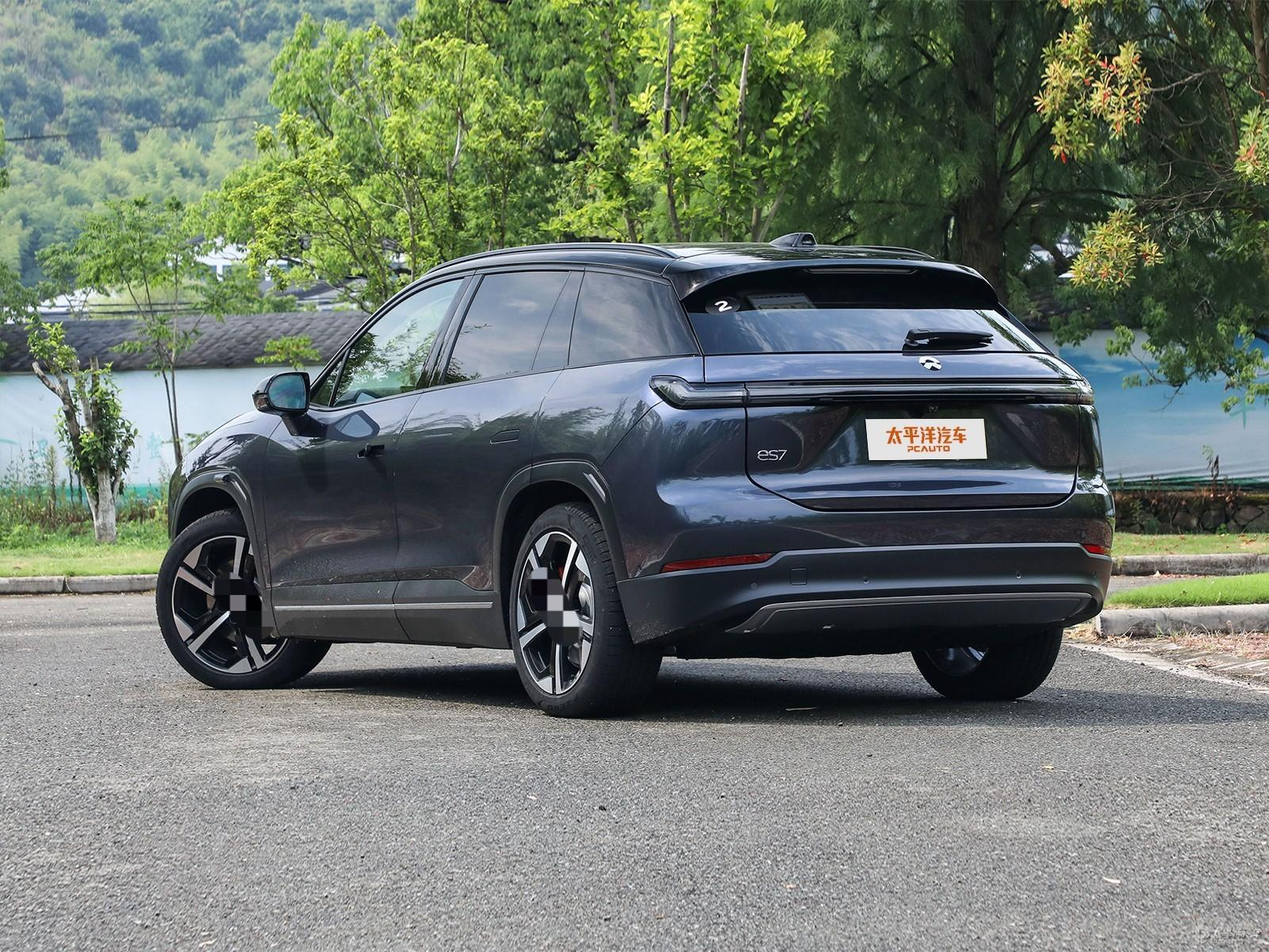NIO: (919, 355, 942, 370)
